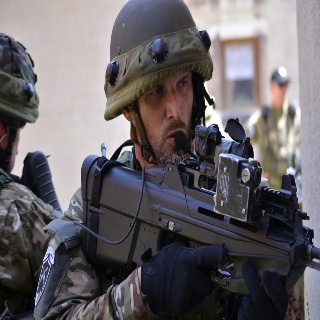rifle: (81, 118, 319, 298)
